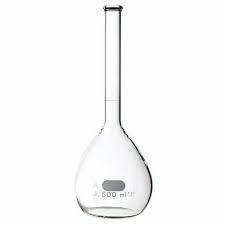Volumetric flask: (69, 6, 157, 223)
